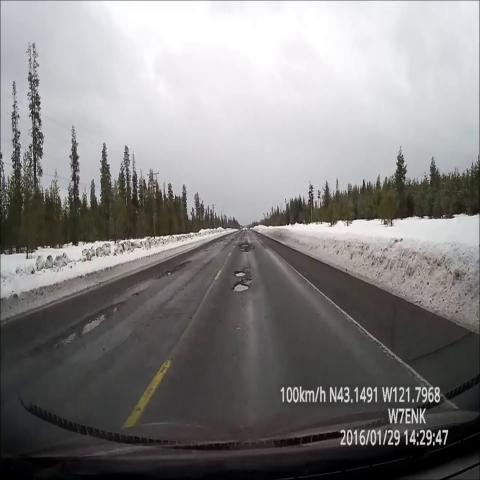pothole: (26, 279, 137, 377), (154, 251, 200, 287), (227, 281, 255, 304), (235, 234, 256, 261), (228, 266, 257, 284)
